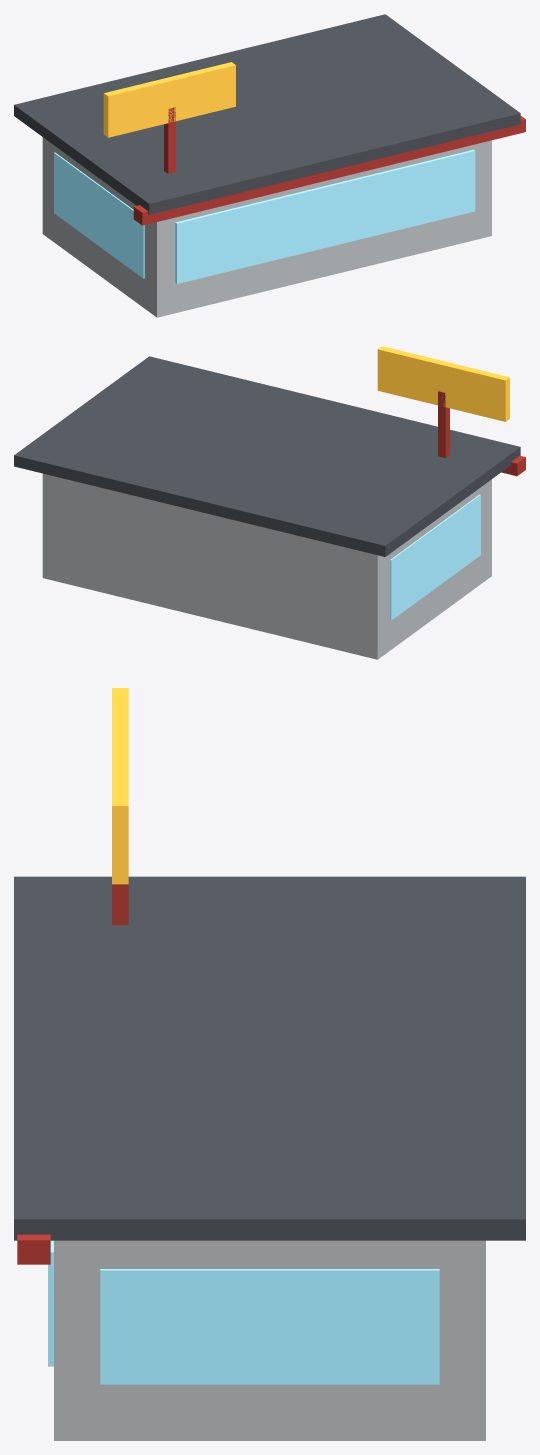
Rendered from diner.gltf.
3 views of the same model, one above another, from view 1: azimuth 30°, elevation 25°; view 2: azimuth 150°, elevation 25°; view 3: azimuth 270°, elevation 25° (orthographic). The views are drawn at different scales.
Visible parts, largest first — view 1: diner; view 2: diner; view 3: diner.
Boxes of the visible parts, x1,y1,x2,y2 form: diner: (14,14,525,317); diner: (14,346,525,659); diner: (14,688,525,1440).
Size of the model in its own units: 12.9 by 6.85 by 7.7.
